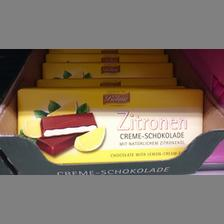Schokolade: (12, 86, 208, 162)
